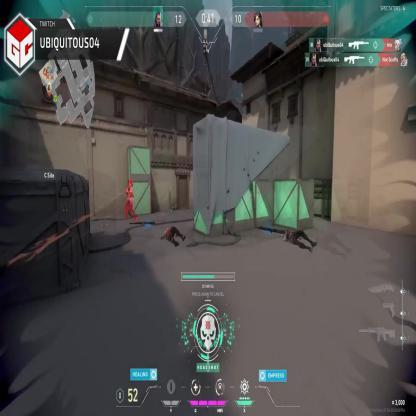enemy: (124, 180, 136, 222)
enemy_head: (128, 180, 132, 188)
